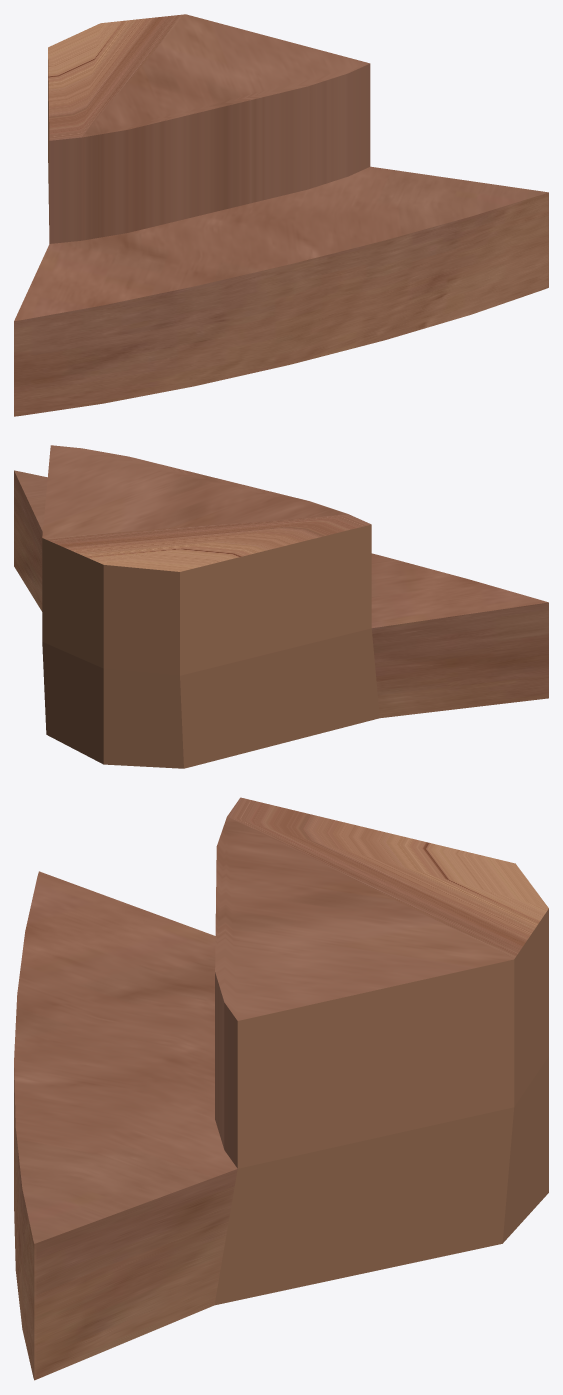
Rendered from TRIANGULO.fbx.
3 views of the same model, one above another, from view 1: azimuth 30°, elevation 25°; view 2: azimuth 150°, elevation 25°; view 3: azimuth 270°, elevation 25° (orthographic). The views are drawn at different scales.
Parts seen in each view (by area): view 1: Escada triagulo; view 2: Escada triagulo; view 3: Escada triagulo.
Part boxes in pixels (x1,y1,x2,y2): Escada triagulo: (14,14,548,416); Escada triagulo: (14,445,548,768); Escada triagulo: (14,797,548,1380).
Size of the model in its own units: 2.13 by 0.7856 by 1.29.
Materials: 1 (1 with a texture image).
